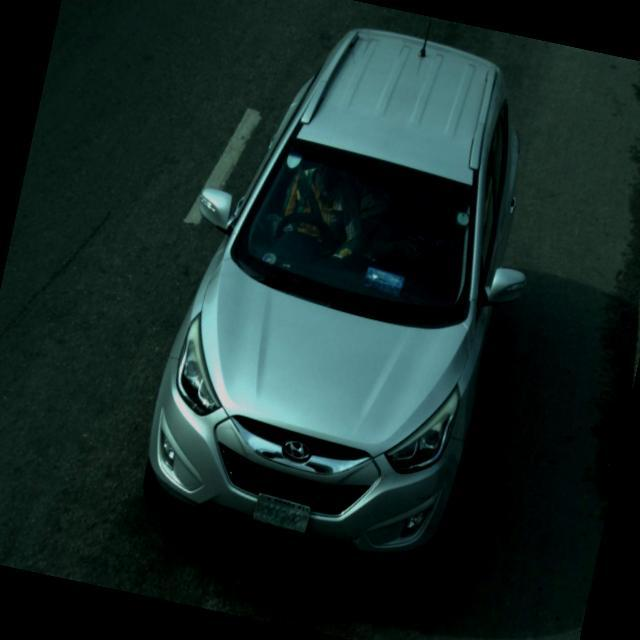windshield: (239, 123, 481, 336)
